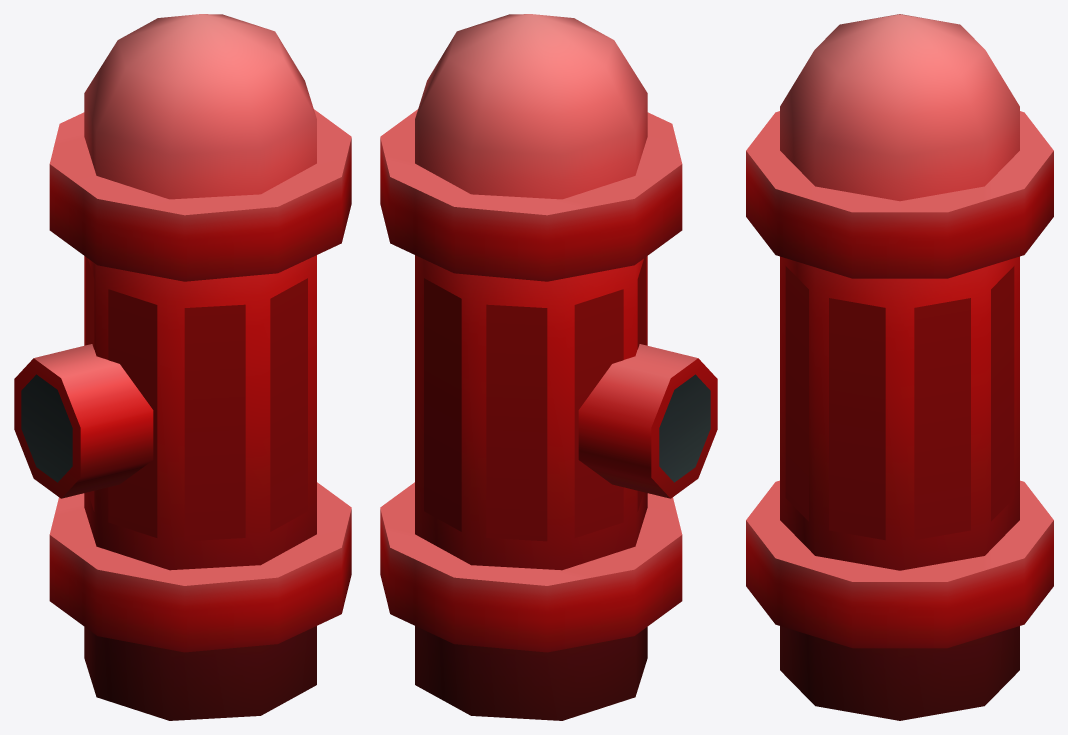
The model's file is Hydrant_1A.fbx.
The picture shows the model from 3 angles, left to right: view 1: azimuth 30°, elevation 25°; view 2: azimuth 150°, elevation 25°; view 3: azimuth 270°, elevation 25°; orthographic projection.
Visible parts, largest first — view 1: Hydrant_1A; view 2: Hydrant_1A; view 3: Hydrant_1A.
Boxes of the visible parts, x1=… form: Hydrant_1A: x1=14, y1=14, x2=351, y2=720; Hydrant_1A: x1=380, y1=14, x2=717, y2=720; Hydrant_1A: x1=746, y1=14, x2=1053, y2=720.
Bounding box in the file's own units: 73.28 × 164 × 69.79.
